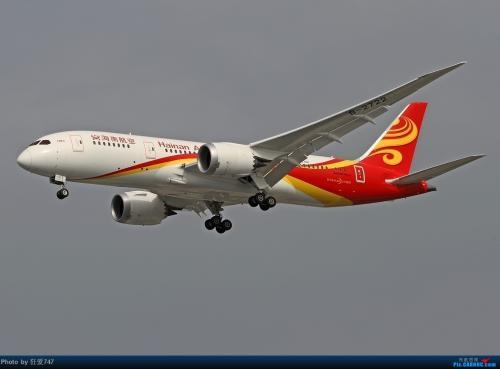airplane: (14, 60, 485, 233)
